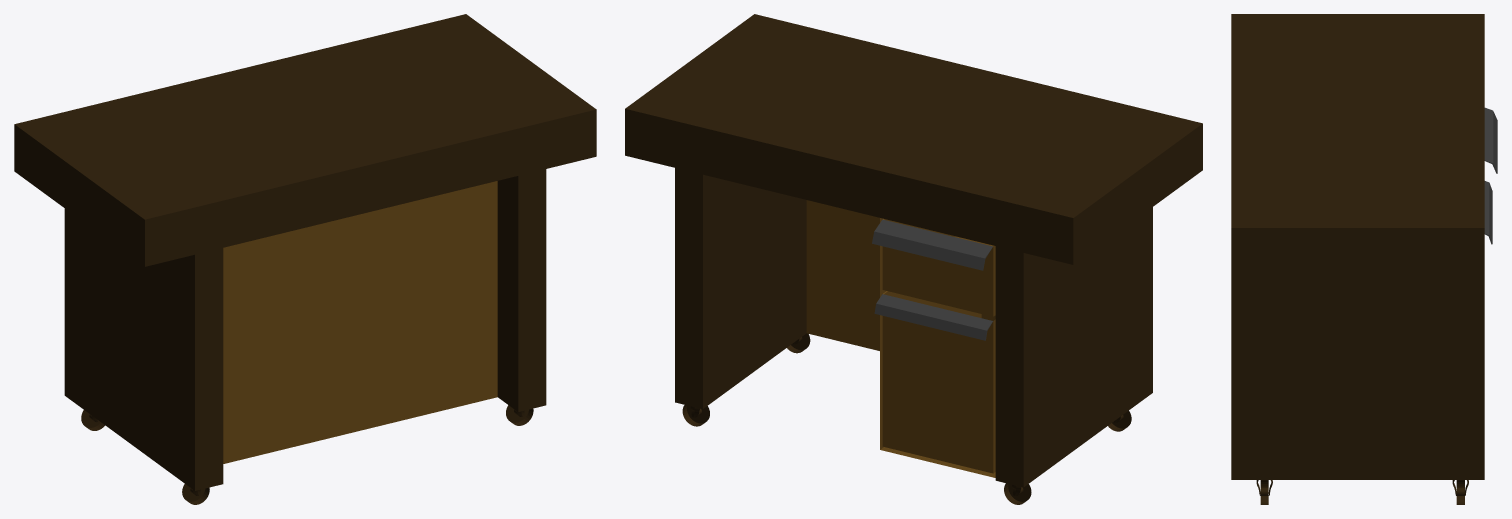
Rendered from TeacherDesk.fbx.
3 views of the same model, side by side, from view 1: azimuth 30°, elevation 25°; view 2: azimuth 150°, elevation 25°; view 3: azimuth 270°, elevation 25° (orthographic). The views are drawn at different scales.
Visible parts, largest first — view 1: Desk; view 2: Desk, BottomDrawer, TopDrawer; view 3: Desk, TopDrawer, BottomDrawer.
Boxes of the visible parts, box(x1,y1,x2,y2) form: Desk: box(14, 14, 596, 504); Desk: box(625, 14, 1202, 504); BottomDrawer: box(874, 291, 995, 473); TopDrawer: box(872, 218, 995, 316); Desk: box(1231, 14, 1484, 504); TopDrawer: box(1484, 107, 1497, 173); BottomDrawer: box(1484, 181, 1492, 244).
Size of the model in its own units: 400 by 265 by 210.
